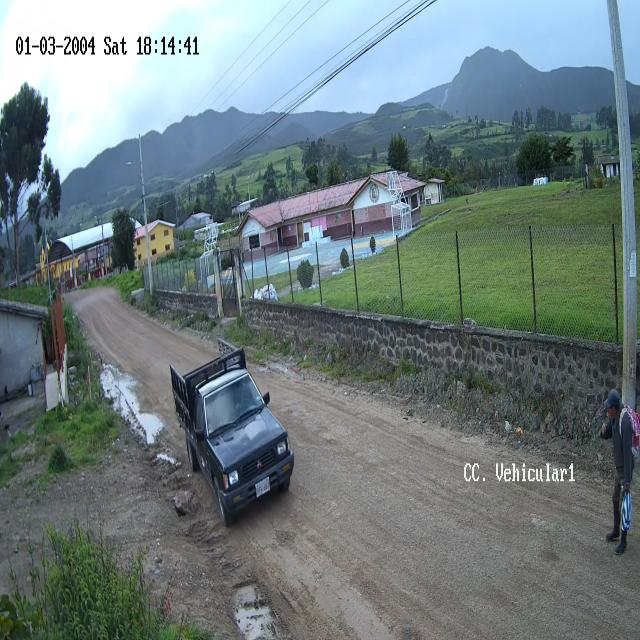CMT: (171, 352, 294, 528)
